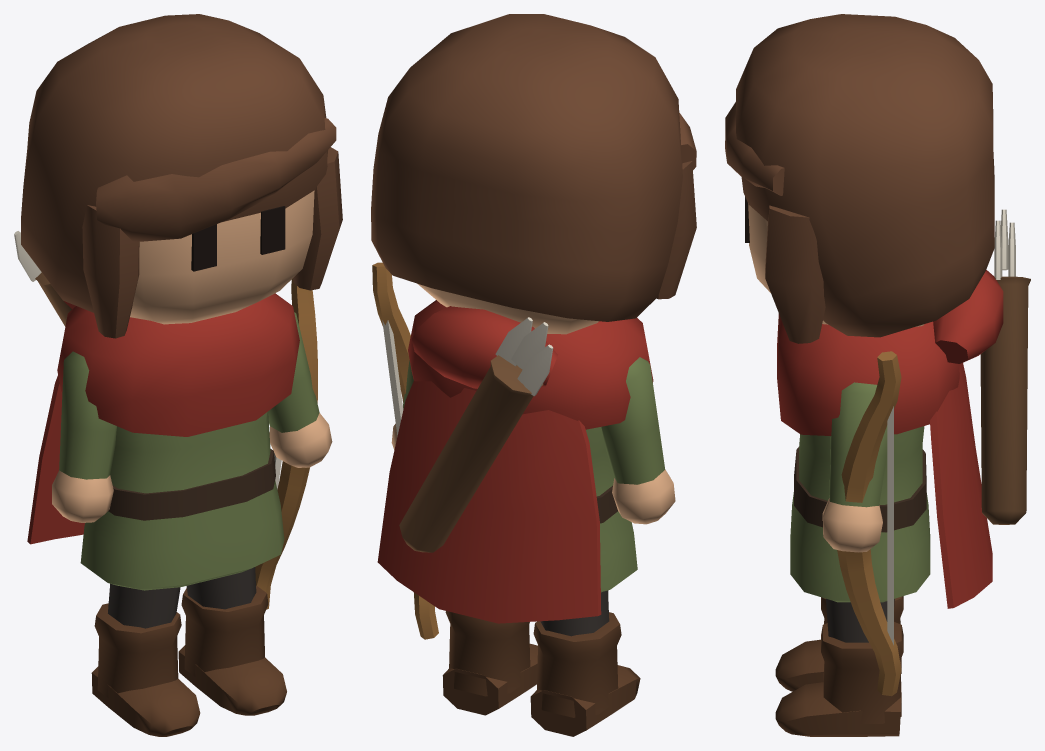
File: ranger_v4.glb
The picture shows the model from 3 angles, left to right: view 1: azimuth 30°, elevation 25°; view 2: azimuth 150°, elevation 25°; view 3: azimuth 270°, elevation 25°; orthographic projection.
Visible parts, largest first — view 1: Hair.001, Mantle.003, Torso.003, Head.001, Fringe.001, Boot.R.003, HairLock.R.001, Boot.L.003, Arm.R.003, Belt.001, Foot.L.001, Foot.R.001 (+11 smaller); view 2: Hair.001, Cape.002, Mantle.003, Quiver.003, Boot.R.003, Hood.003, Boot.L.003, Arm.R.003, Torso.003, Bow.003, Foot.R.001, Foot.L.001 (+9 smaller); view 3: Hair.001, Mantle.003, Torso.003, Quiver.003, Cape.002, Bow.003, HairLock.L.001, Boot.L.003, Foot.L.001, Hood.003, Arm.L.003, Hand.L.003 (+6 smaller).
Boxes of the visible parts, left/top/right/bottom form: Hair.001: left=21, top=14, right=327, bottom=312; Mantle.003: left=57, top=293, right=299, bottom=436; Torso.003: left=80, top=411, right=284, bottom=590; Head.001: left=130, top=190, right=314, bottom=324; Fringe.001: left=96, top=118, right=336, bottom=241; Boot.R.003: left=94, top=603, right=181, bottom=697; HairLock.R.001: left=82, top=205, right=139, bottom=338; Boot.L.003: left=181, top=585, right=268, bottom=676; Arm.R.003: left=59, top=351, right=116, bottom=479; Belt.001: left=108, top=448, right=275, bottom=520; Foot.L.001: left=178, top=645, right=286, bottom=715; Foot.R.001: left=91, top=666, right=200, bottom=736; Hair.001: left=371, top=14, right=682, bottom=321; Cape.002: left=377, top=380, right=601, bottom=623; Mantle.003: left=408, top=300, right=653, bottom=429; Quiver.003: left=399, top=355, right=543, bottom=552; Boot.R.003: left=533, top=612, right=621, bottom=717; Hood.003: left=412, top=306, right=557, bottom=388; Boot.L.003: left=445, top=611, right=530, bottom=696; Arm.R.003: left=601, top=357, right=665, bottom=484; Torso.003: left=586, top=427, right=637, bottom=592; Bow.003: left=372, top=262, right=438, bottom=639; Foot.R.001: left=530, top=665, right=640, bottom=736; Foot.L.001: left=442, top=643, right=537, bottom=715; Hair.001: left=736, top=14, right=994, bottom=337; Mantle.003: left=777, top=313, right=959, bottom=435; Torso.003: left=790, top=426, right=930, bottom=602; Quiver.003: left=980, top=276, right=1030, bottom=524; Cape.002: left=930, top=363, right=992, bottom=608; Bow.003: left=837, top=351, right=901, bottom=696; HairLock.L.001: left=765, top=205, right=825, bottom=343; Boot.L.003: left=821, top=622, right=903, bottom=723; Foot.L.001: left=775, top=682, right=901, bottom=736; Hood.003: left=933, top=270, right=1003, bottom=363; Arm.L.003: left=829, top=382, right=887, bottom=507; Hand.L.003: left=822, top=498, right=882, bottom=552.
Bounding box in the file's own units: 0.803 × 1.85 × 0.7656.
